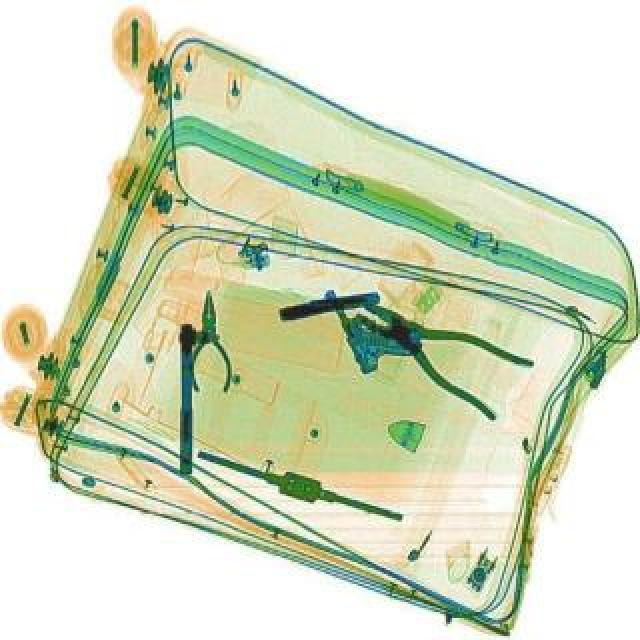gun: (324, 270, 412, 374), (274, 288, 382, 322)
wrench: (342, 268, 538, 422), (184, 290, 232, 392)
